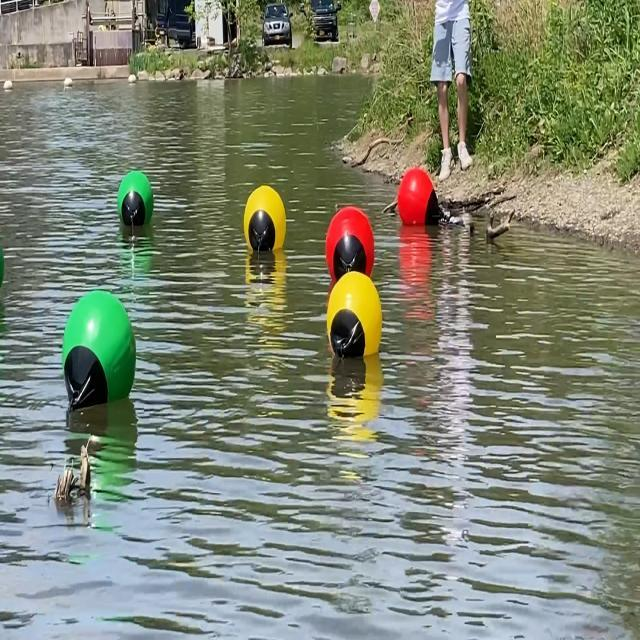buoy: (62, 289, 139, 412), (328, 270, 386, 364), (324, 204, 376, 288), (242, 184, 286, 257), (397, 164, 442, 229), (116, 169, 154, 229)
